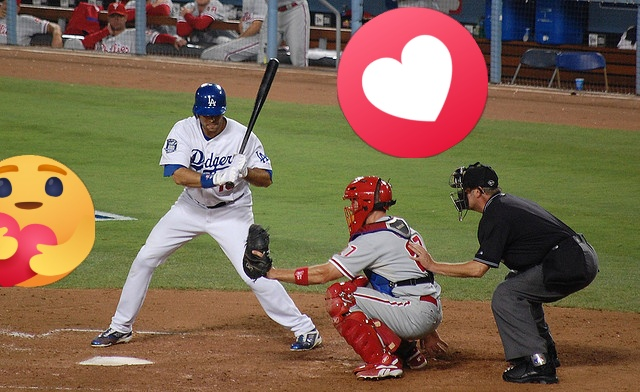care: (0, 155, 95, 287)
love: (337, 7, 488, 158)
